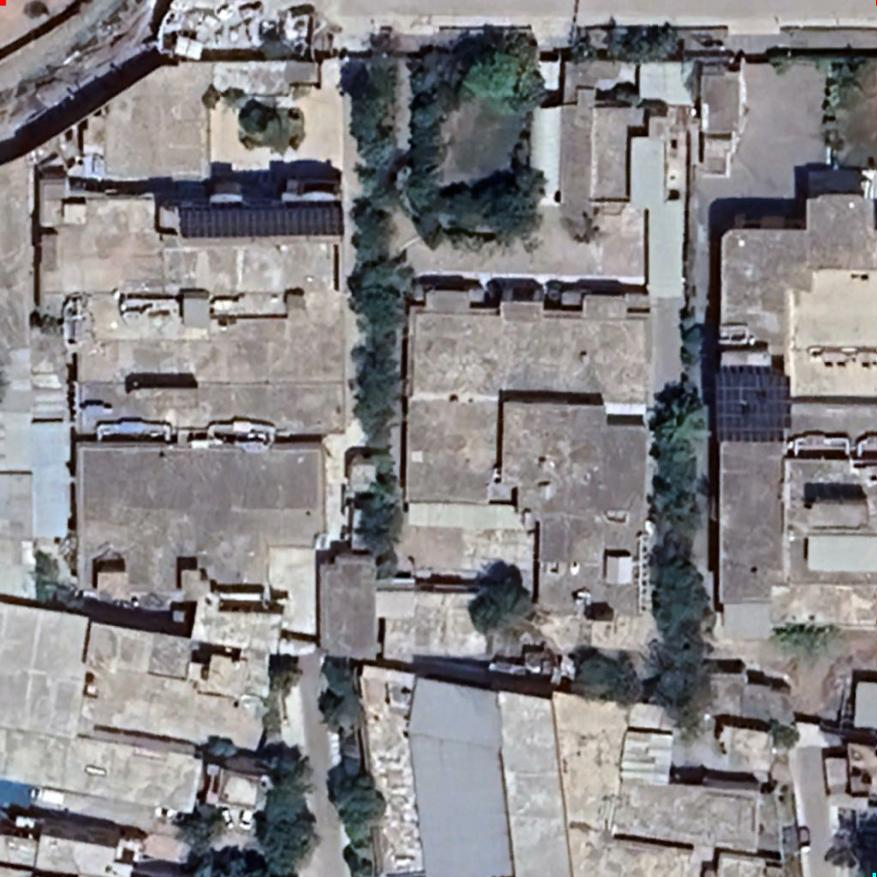Solarpanel: (170, 196, 348, 240), (707, 360, 794, 444)
